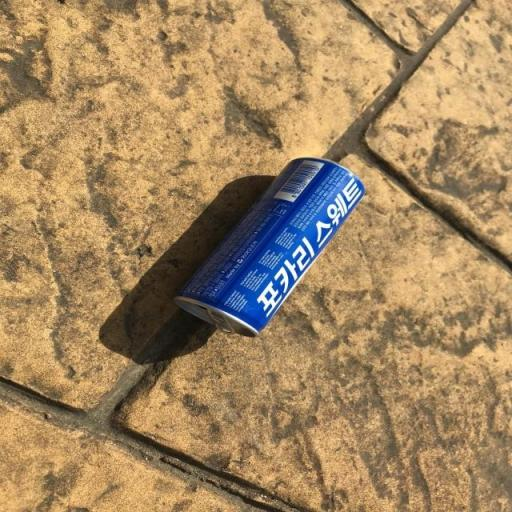metal: (160, 146, 408, 344)
